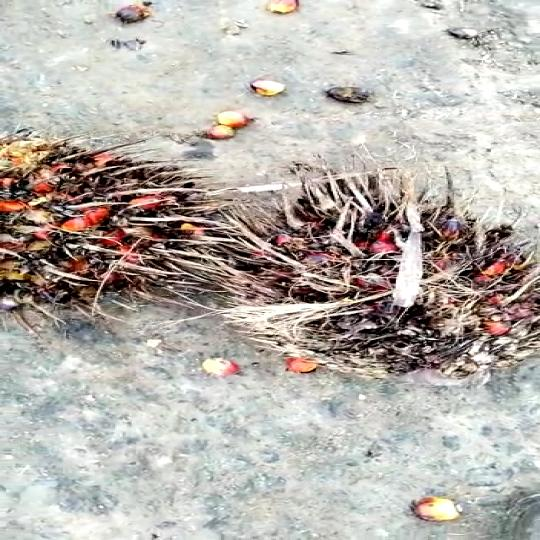terlalu masak: (176, 168, 540, 392)
